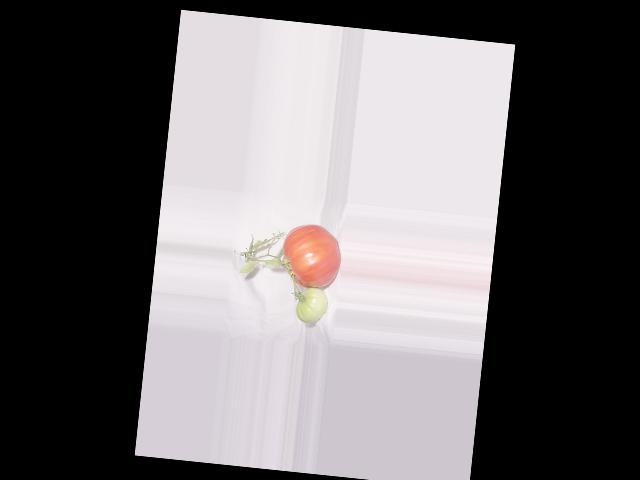tomato: (279, 221, 343, 291)
